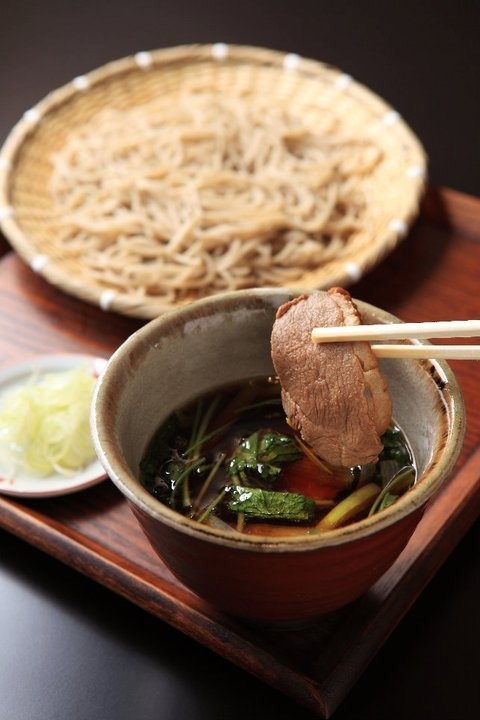Soba: (60, 84, 408, 289)
